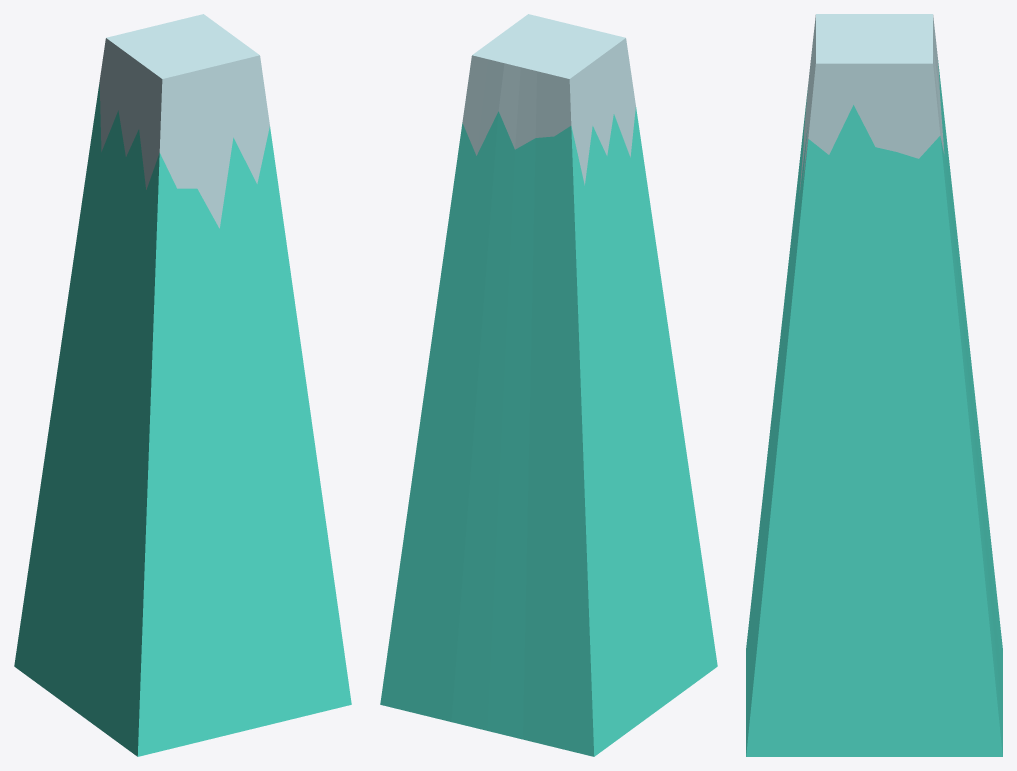
The model's file is Mountain3.fbx.
3 views of the same model, side by side, from view 1: azimuth 30°, elevation 25°; view 2: azimuth 150°, elevation 25°; view 3: azimuth 270°, elevation 25° (orthographic). The views are drawn at different scales.
Parts seen in each view (by area): view 1: dağ3; view 2: dağ3; view 3: dağ3.
Boxes of the visible parts, x1=… form: dağ3: x1=14, y1=14, x2=351, y2=756; dağ3: x1=380, y1=14, x2=717, y2=756; dağ3: x1=746, y1=14, x2=1002, y2=756.
Bounding box in the file's own units: 0.9033 × 2.58 × 0.9033.
